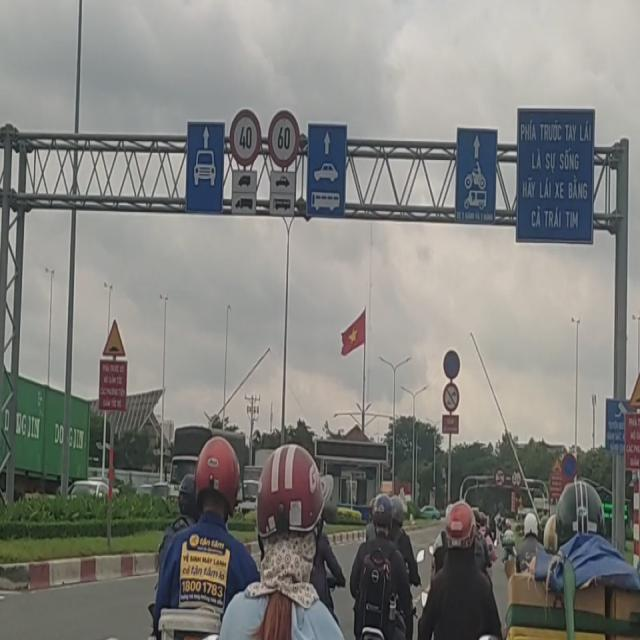Bien bao duong co go giam toc: (102, 312, 130, 358)
Bien bao lan duong danh cho o to con: (182, 117, 227, 210)
Bien bao lan duong danh cho xe con va xe buyt: (306, 119, 348, 220)
Bien bao lan duong danh cho xe may va xe 3 banh: (455, 119, 503, 232)
Bien bao toc do toi da cho phep: (264, 103, 304, 163), (228, 103, 263, 165)
